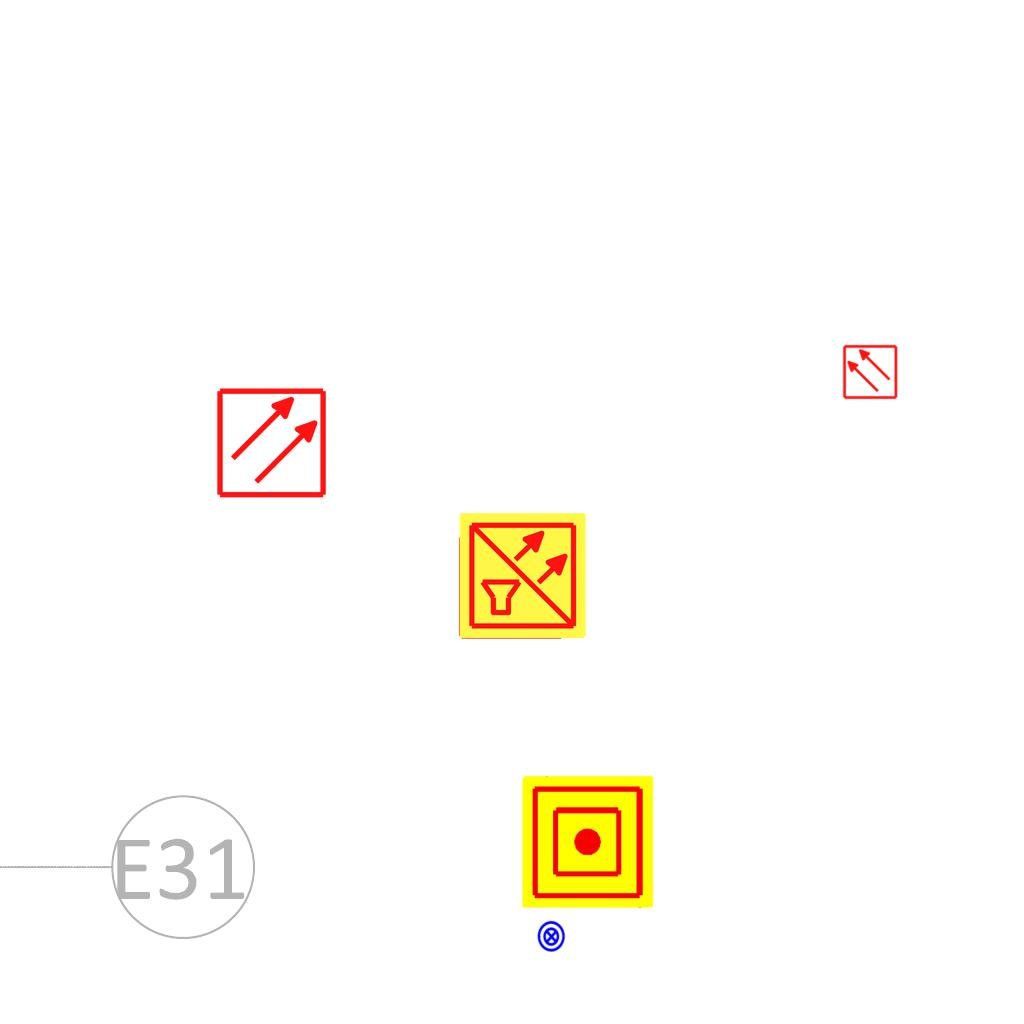NAM-Nichtautomatischer_Melder: (522, 776, 654, 908)
OKW_Multisensormelder_(Kombination_optischer_Rauch-Kahlenmonoxid_Waerme-Melder): (457, 510, 589, 642)
RMO_Rauchmelder_optischer: (215, 386, 328, 499), (842, 344, 898, 400)
Taster_beleuchtet: (535, 920, 568, 953)
